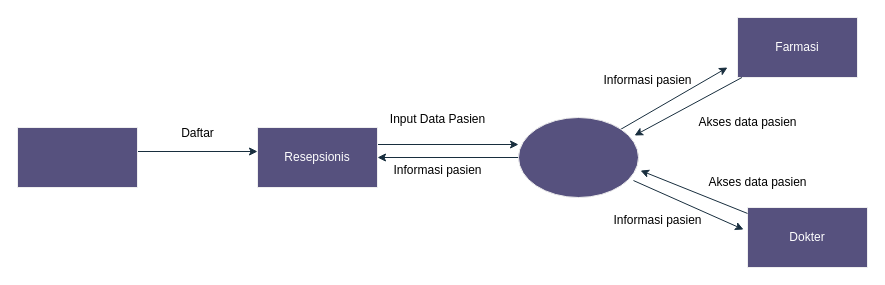
The diagram is 885 pixels wide and 285 high, and some of its shapes have lost their labels. The centre of each missing label's shape, as x and y in pixels:
Pasien: (x=77, y=157)
Websites: (x=578, y=157)
